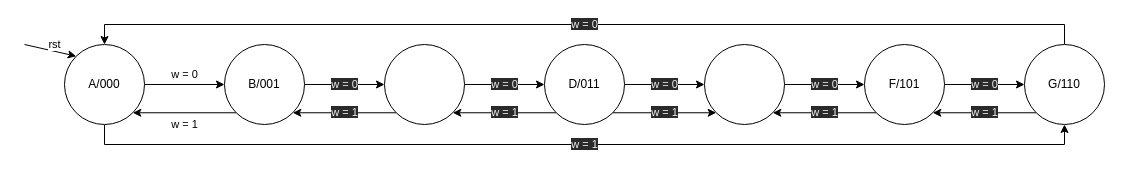
Some shapes in this 1122 by 170 pixel diagram are drawn without their labels. Each missing label, with the box of its shape:
C/010: (384, 44, 464, 124)
E/100: (704, 44, 784, 124)
